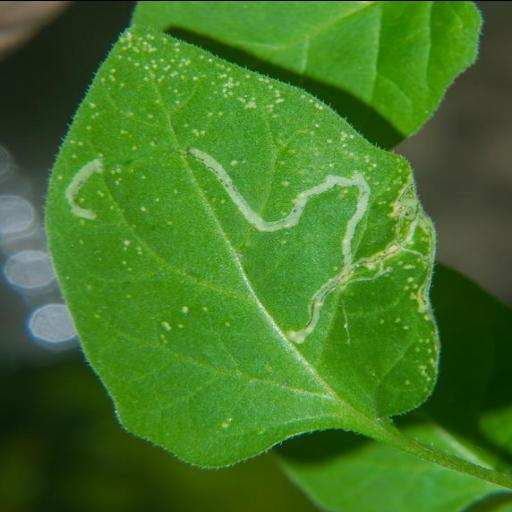disease_tomato: (38, 22, 442, 466)
